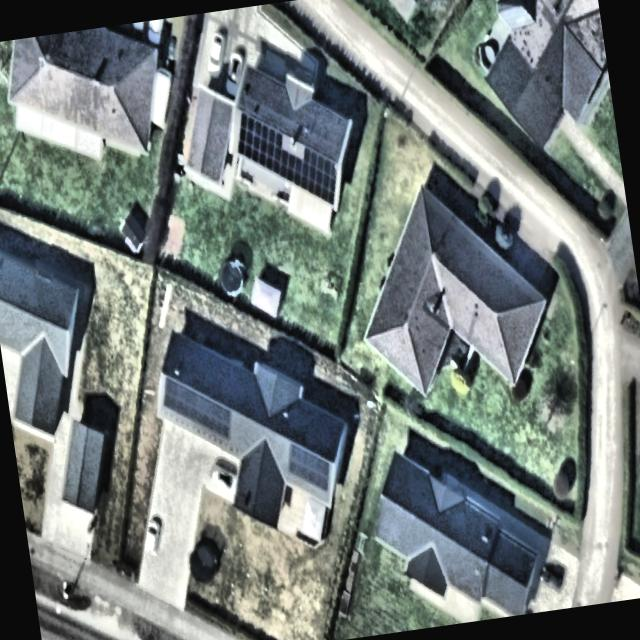roof_pv: (230, 105, 288, 183), (284, 438, 336, 500), (299, 142, 343, 211), (194, 385, 238, 446), (160, 374, 198, 432), (282, 147, 306, 190)
